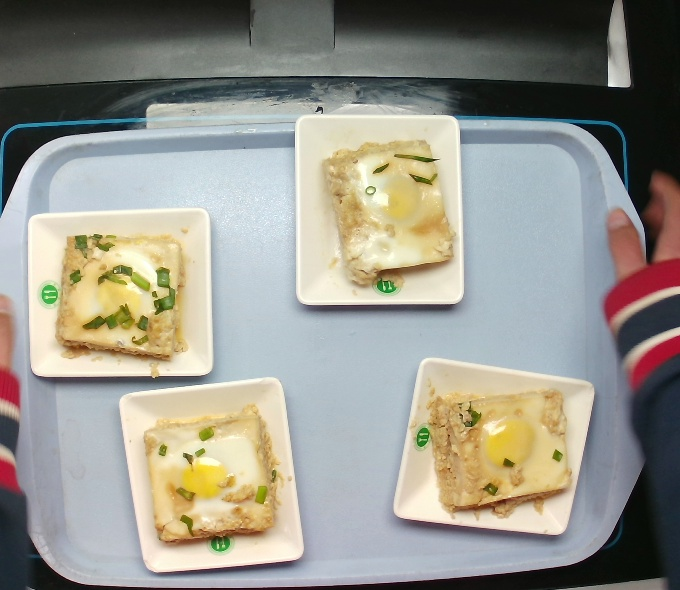wcq-RouMoZhengDan: (414, 370, 585, 529), (40, 210, 199, 381), (312, 124, 462, 304), (133, 397, 292, 562)
